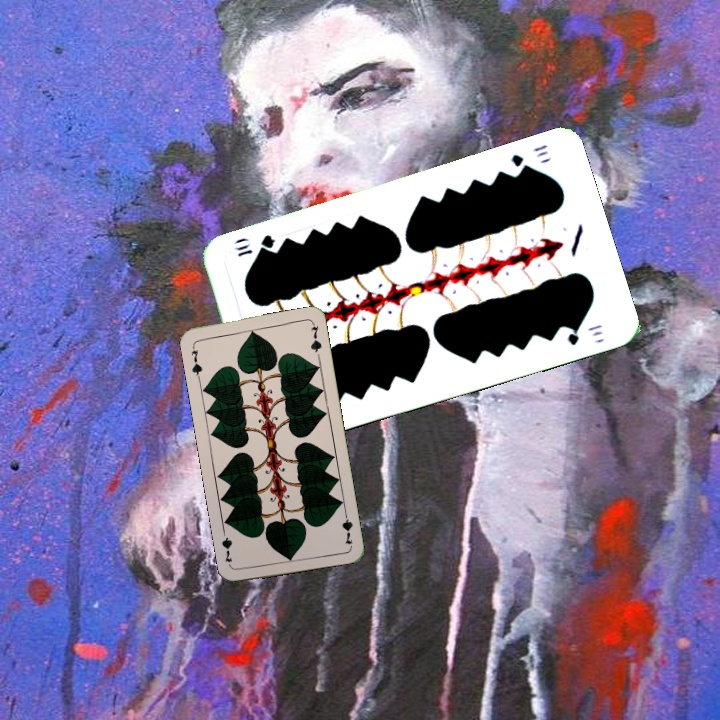G10: (507, 140, 551, 175)
G7: (187, 341, 205, 381), (338, 507, 355, 547)
